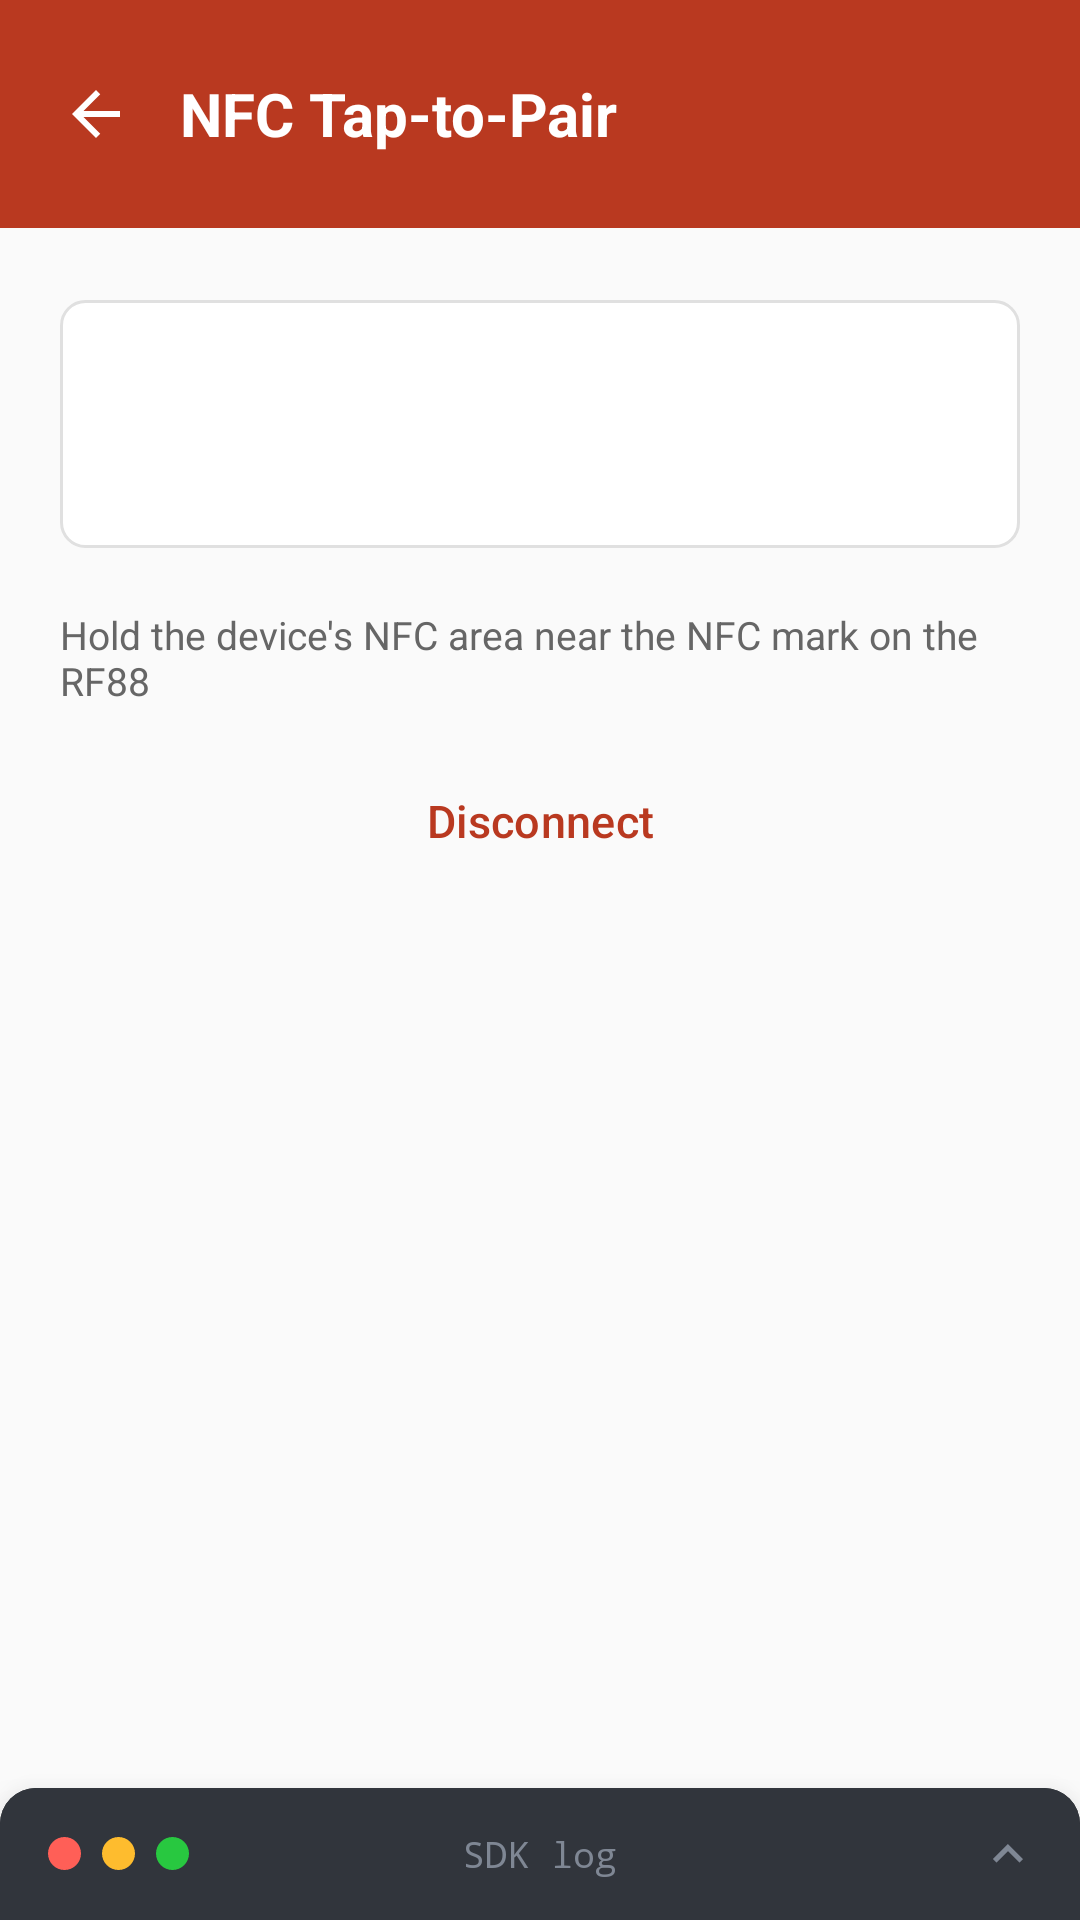

Point at icon controls on the screen. Image size 1080×1920, points as [x,y].
Back: [96,114]
